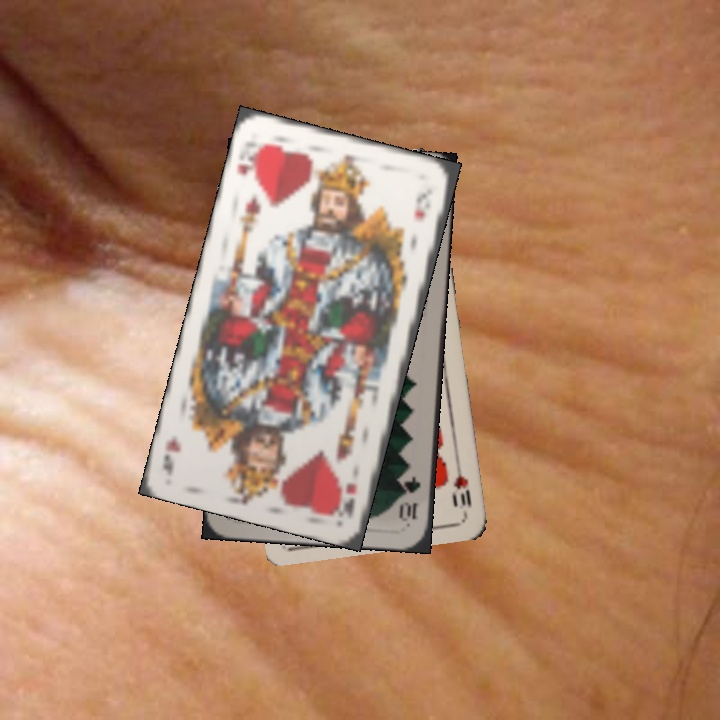G10: (397, 472, 423, 524)
H10: (449, 458, 474, 517)
HK: (233, 139, 265, 185), (338, 478, 360, 521)
